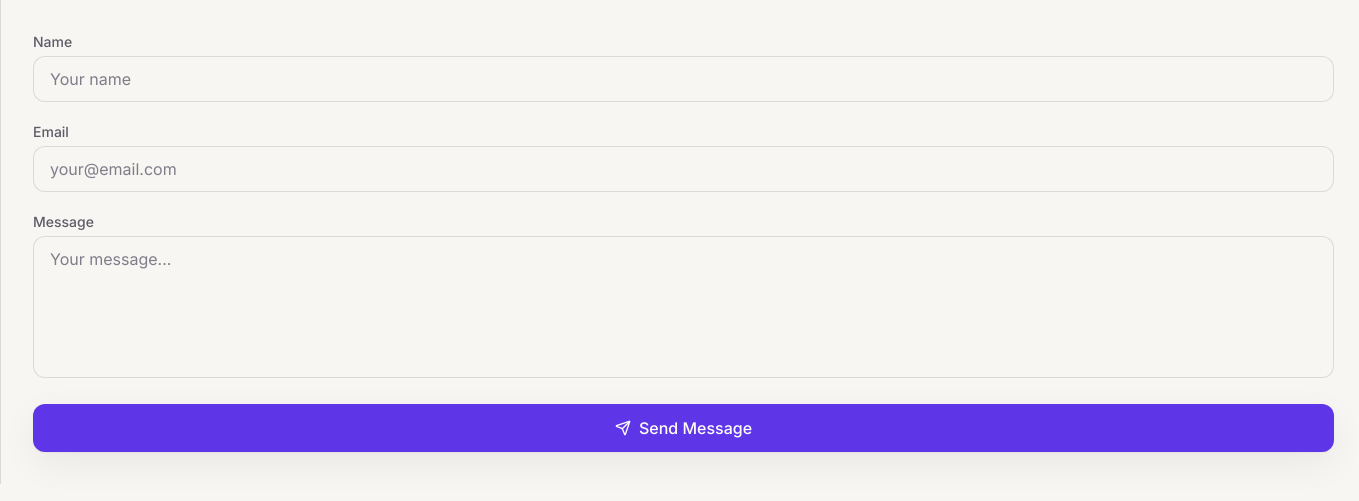
Test: ContactForm › shows fallback notification when sendEmail throws unexpected error
In the field labelled "Name": (684, 79) [33,56,1334,102], type "John Doe"
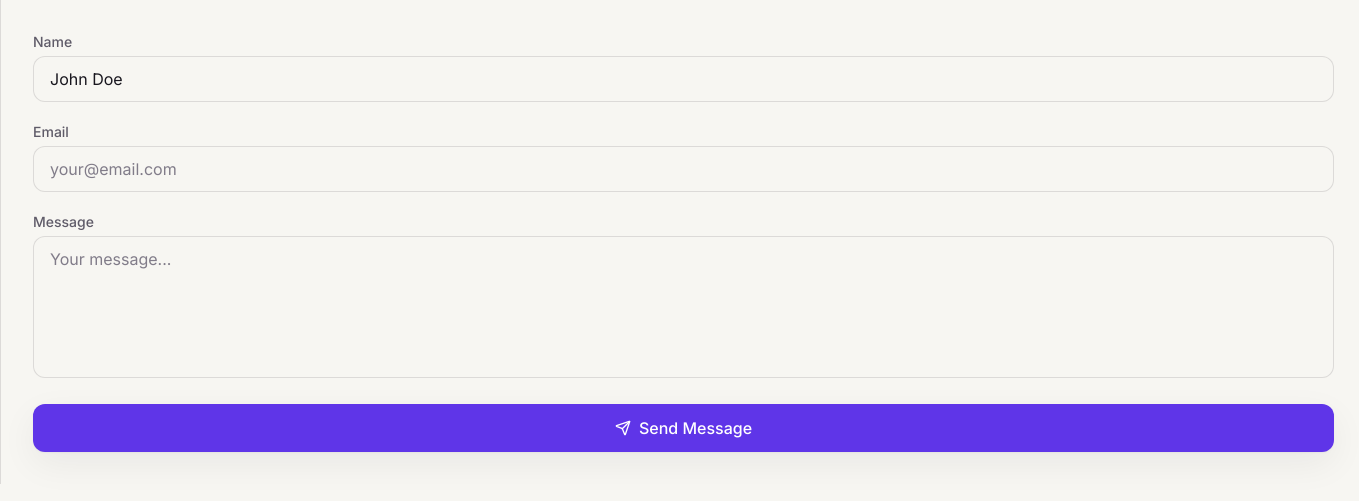
In the field labelled "Email": (684, 169) [33,146,1334,192], type "john.doe@example.com"
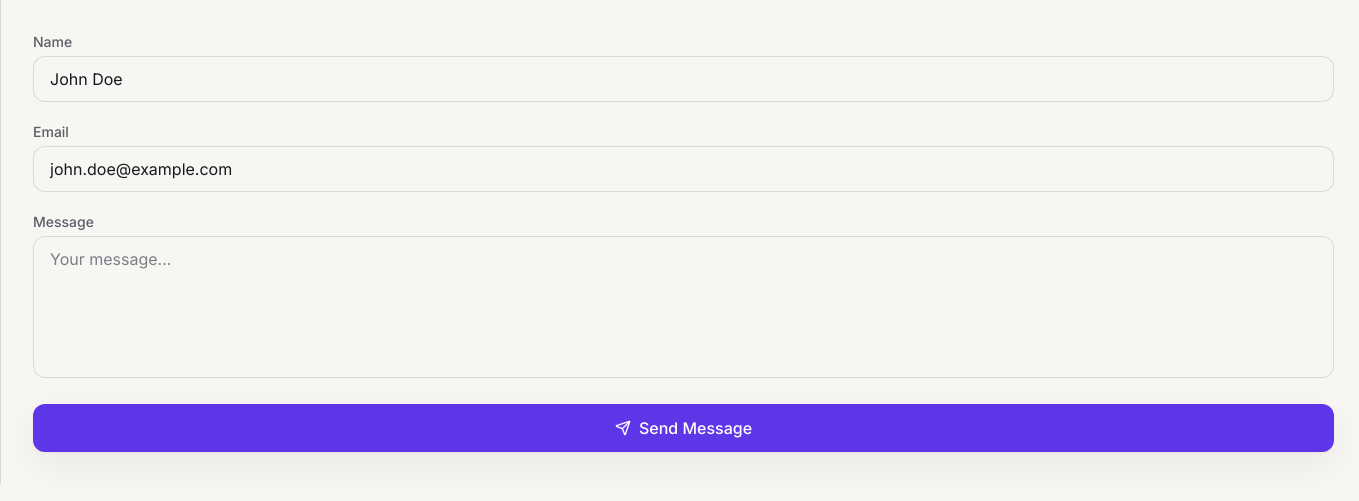
In the text box labelled "Message": (684, 307) [33,236,1334,378], type "This is a test message."
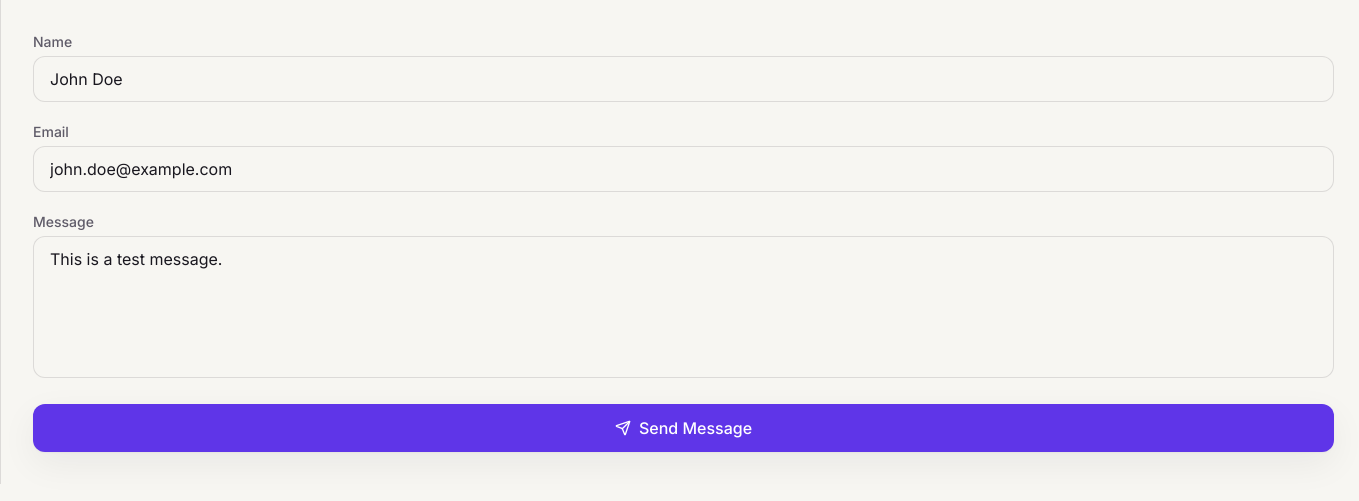
Click the button with test id "submit-button": (684, 428) [33,404,1334,452]
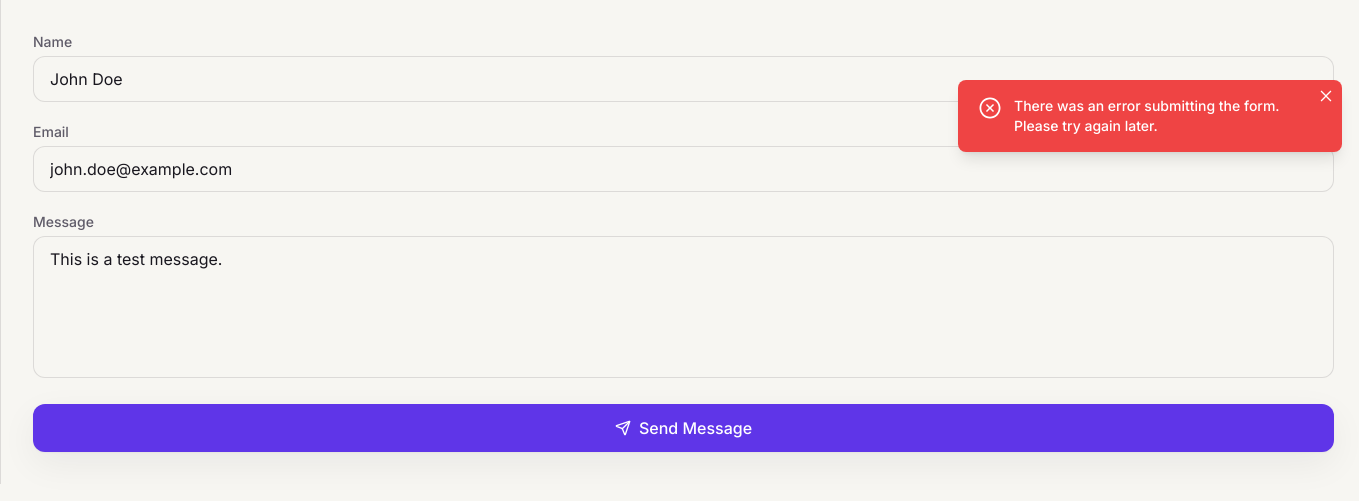
Now the text "There was an error submitting the form. Please try again later." is shown, box [1014,96,1322,136]
